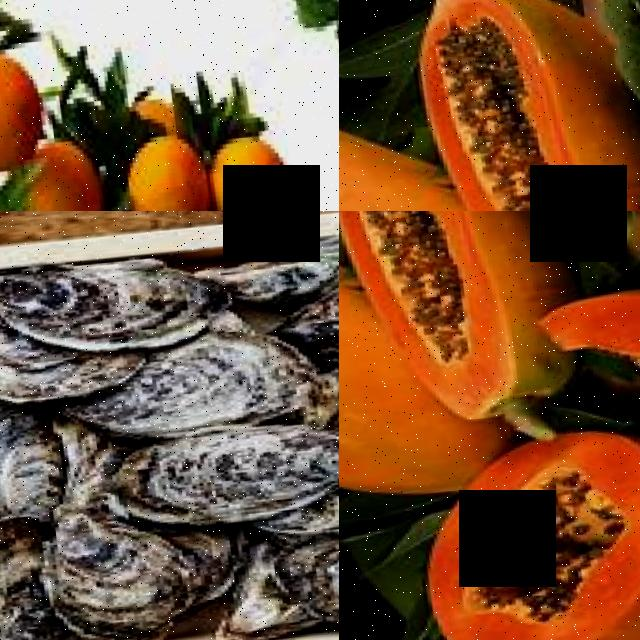orange: (202, 136, 290, 211), (118, 141, 202, 211), (16, 144, 93, 211), (0, 52, 38, 174)
oysters: (100, 420, 339, 536), (23, 502, 189, 640), (0, 252, 203, 364), (87, 341, 300, 445), (261, 521, 339, 640), (0, 397, 69, 519), (281, 270, 339, 382)
pawpaw: (403, 0, 640, 211), (339, 211, 569, 405), (400, 460, 640, 640), (339, 99, 456, 211)
